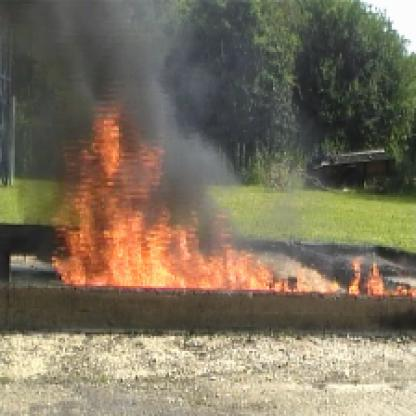Fire: (48, 96, 316, 294), (344, 260, 414, 297)
Smoke: (2, 2, 184, 109)
